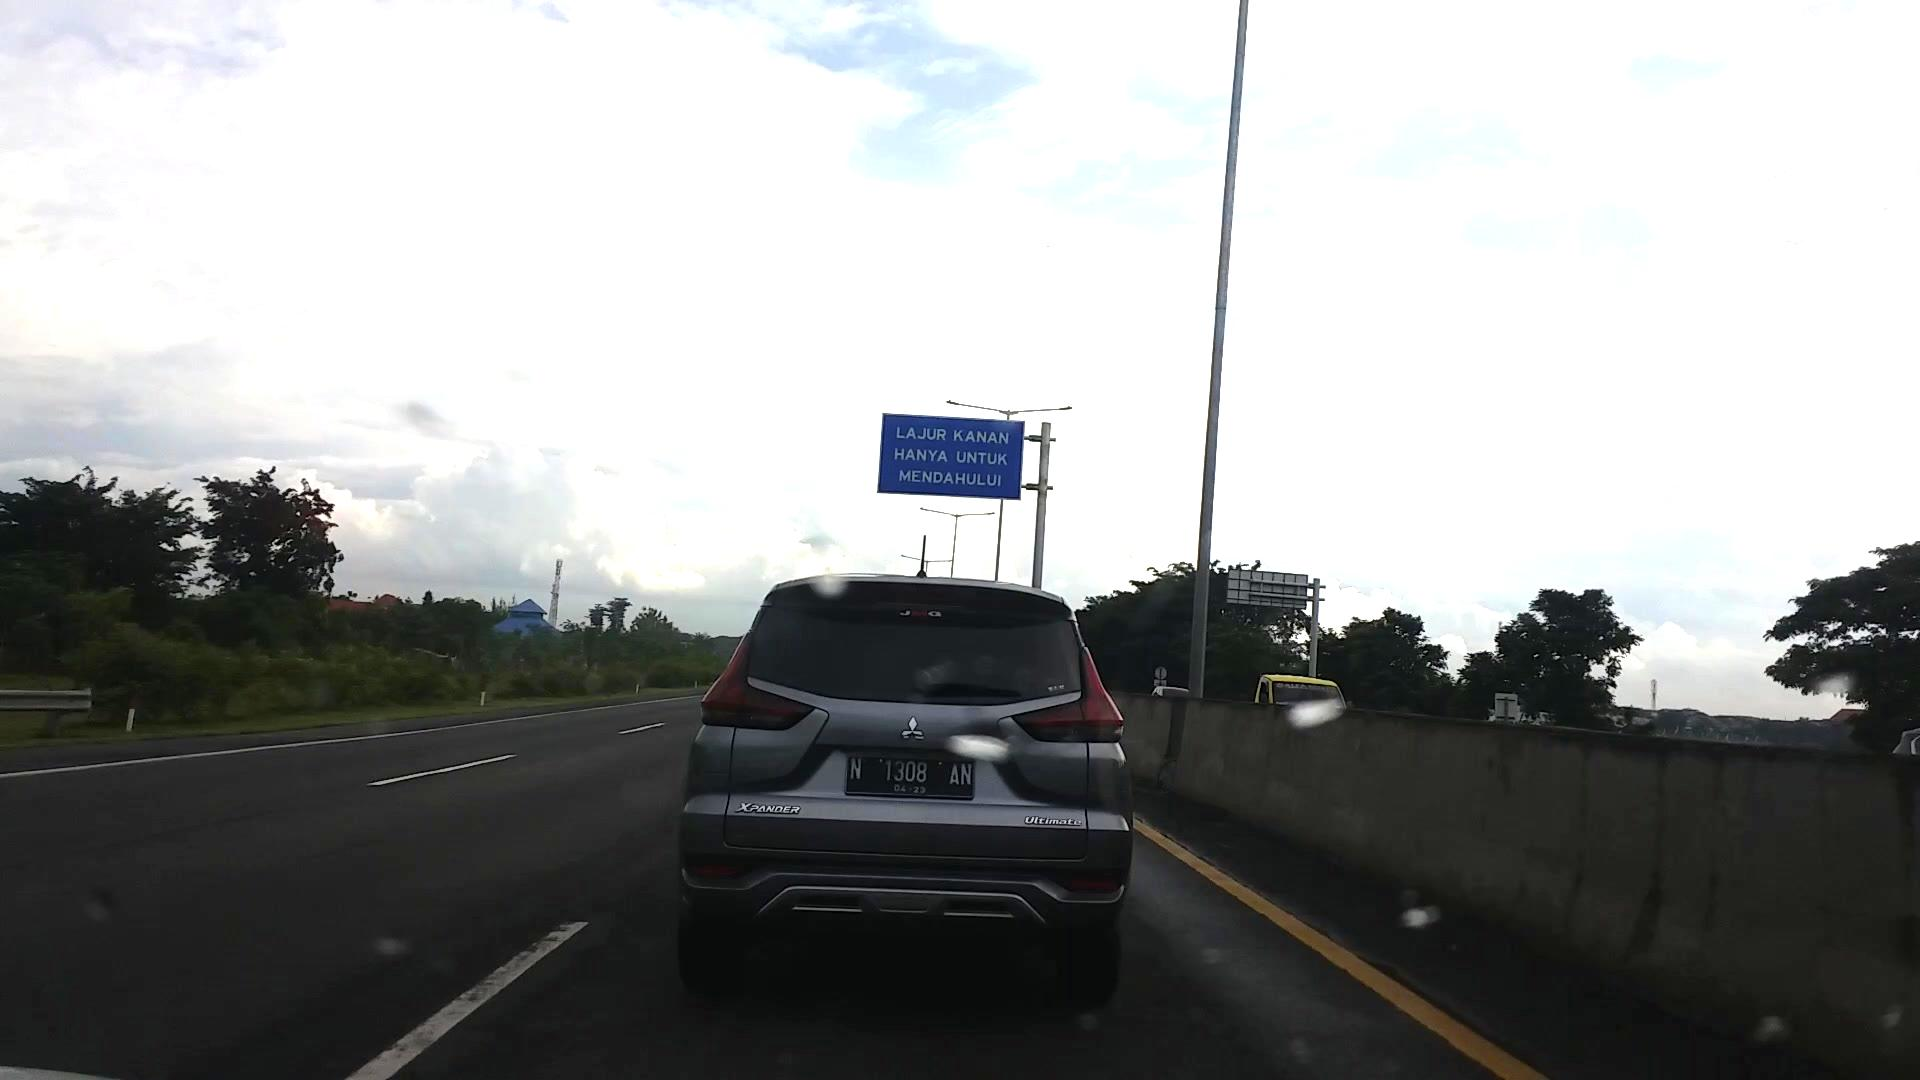plate_positive: (847, 752, 975, 800)
